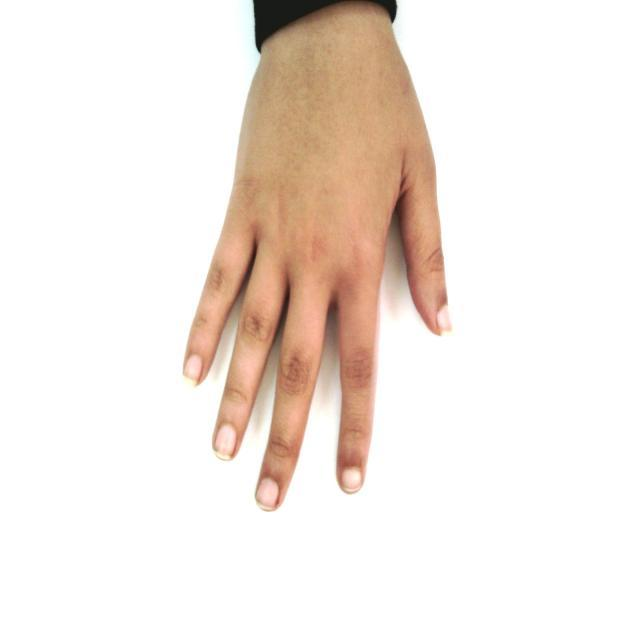Fingernail: (257, 478, 278, 510), (216, 425, 235, 458), (342, 469, 361, 493), (185, 356, 202, 381), (438, 306, 452, 333)
